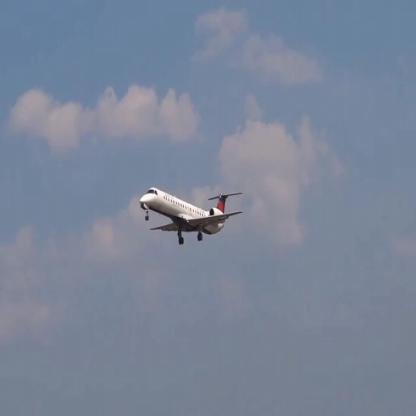aircraft: (138, 187, 244, 244)
